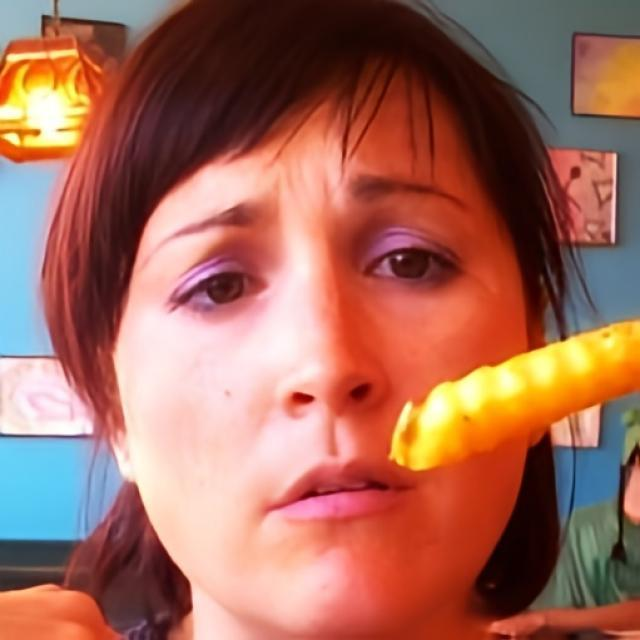sad: (110, 57, 528, 640), (623, 432, 640, 528)
